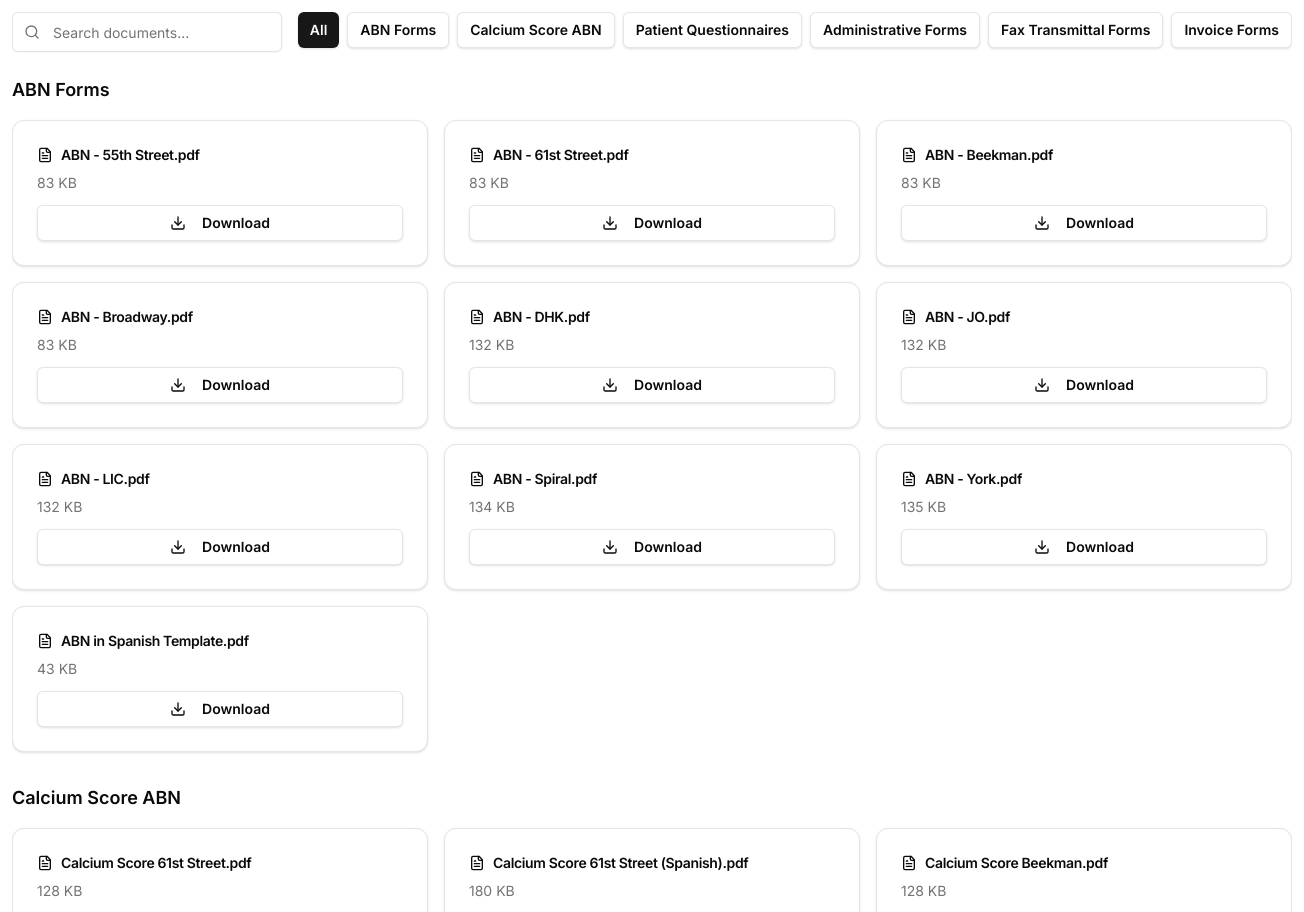
Test: DocumentBrowser › Search Functionality › should show empty state when no search results
Type "xyznonexistent" into the field with placeholder "Search documents..." at (147, 32), box [12,12,282,52]
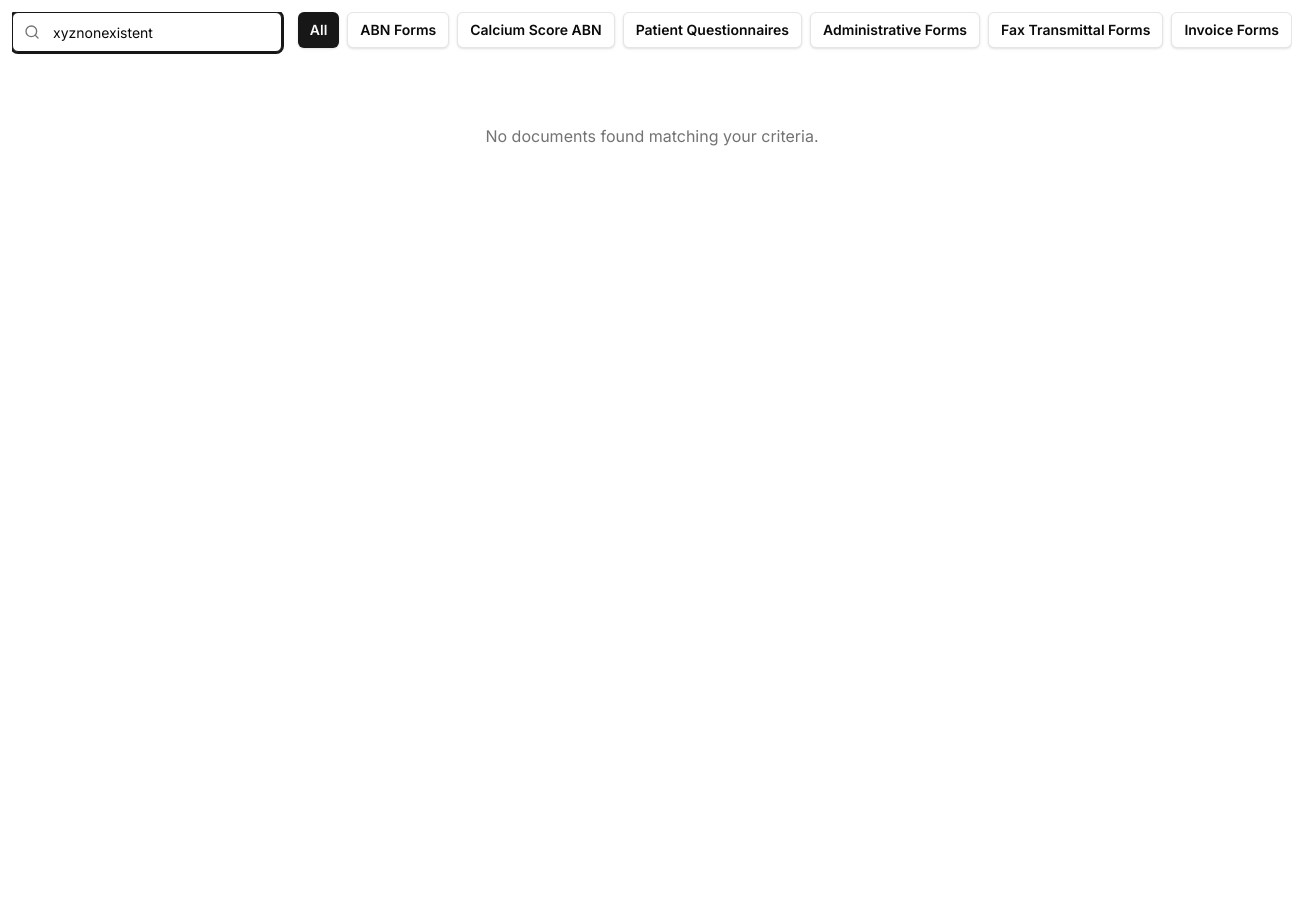
Now the text "No documents found matching your criteria." is shown, box [486,126,818,146]
